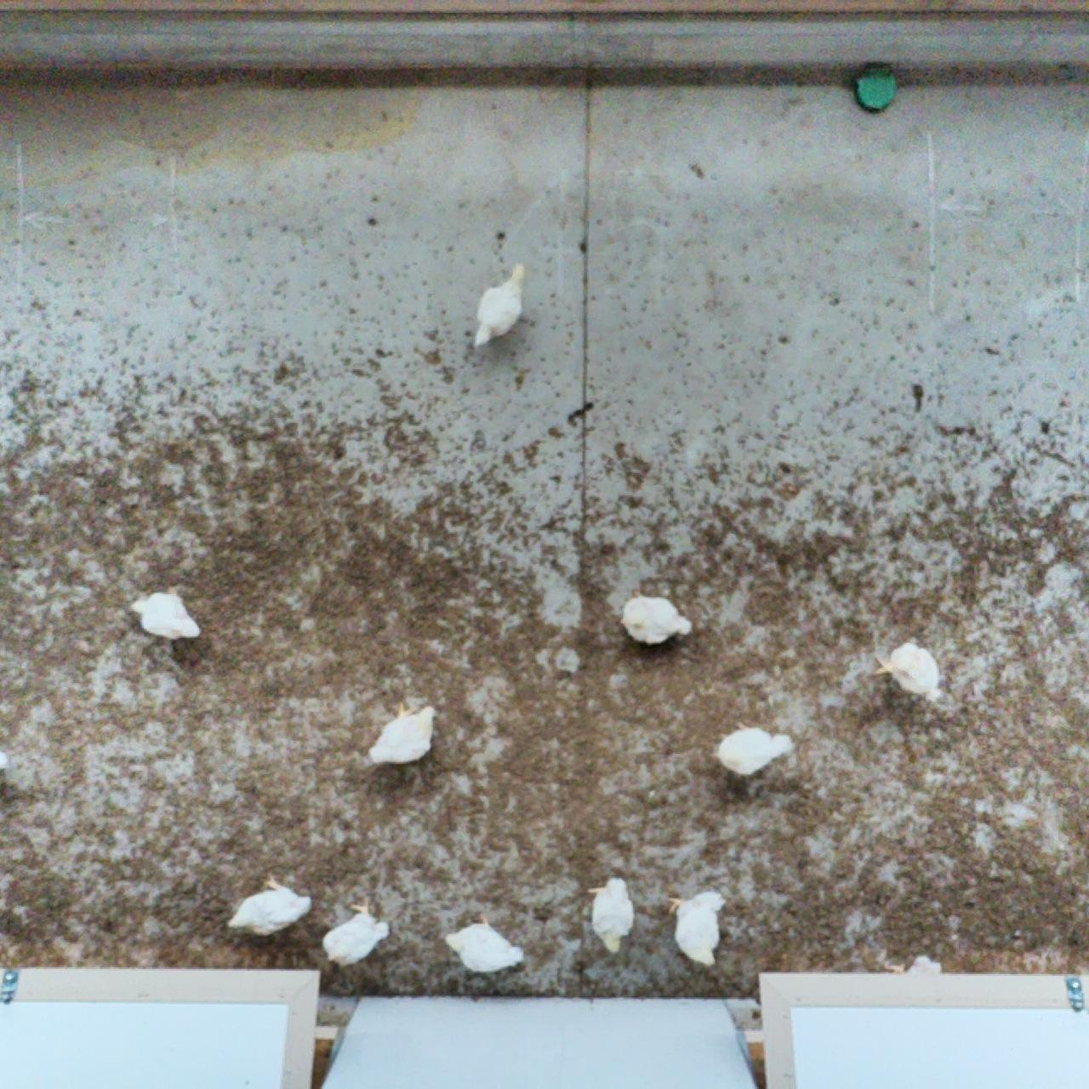chicken: (222, 868, 316, 940), (361, 696, 441, 772), (469, 258, 531, 354), (319, 892, 395, 970), (442, 909, 527, 978), (870, 635, 947, 711), (706, 716, 796, 780), (663, 889, 728, 971), (615, 584, 696, 649), (585, 874, 639, 965), (125, 581, 203, 644)
